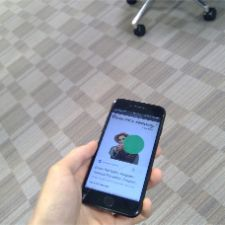focus: (121, 132, 146, 156)
